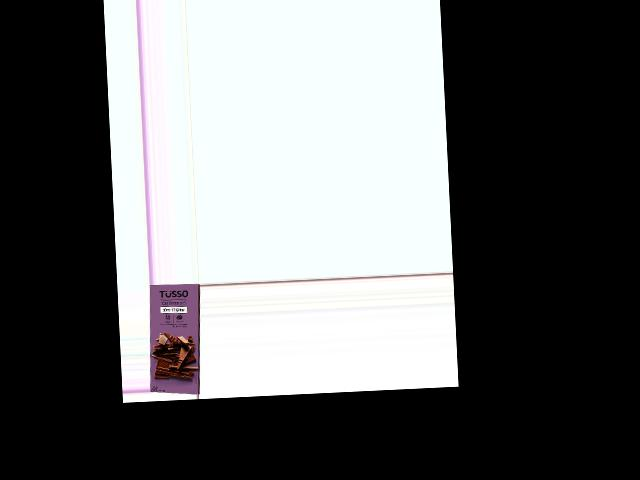chocolate: (148, 285, 201, 396)
